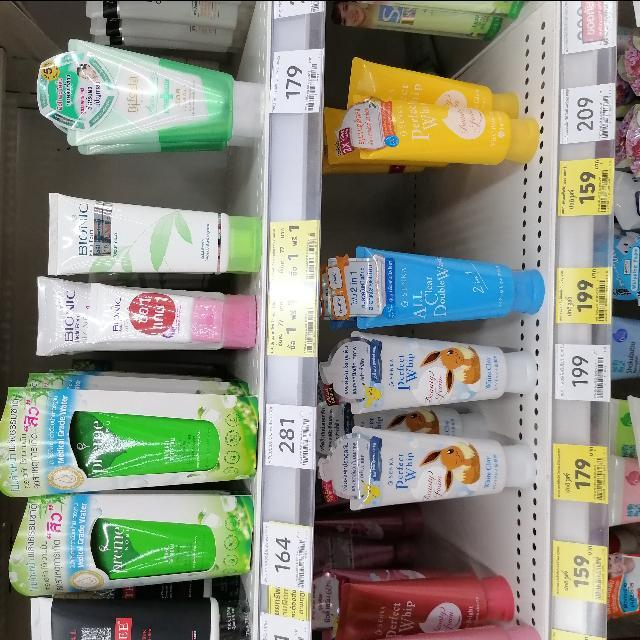Squeeze Tube: (0, 0, 640, 640), (8, 385, 257, 498), (16, 488, 249, 592), (67, 29, 265, 147), (37, 269, 264, 363), (353, 63, 559, 161), (49, 190, 261, 278), (346, 327, 533, 420), (346, 421, 533, 513), (357, 234, 546, 320)
